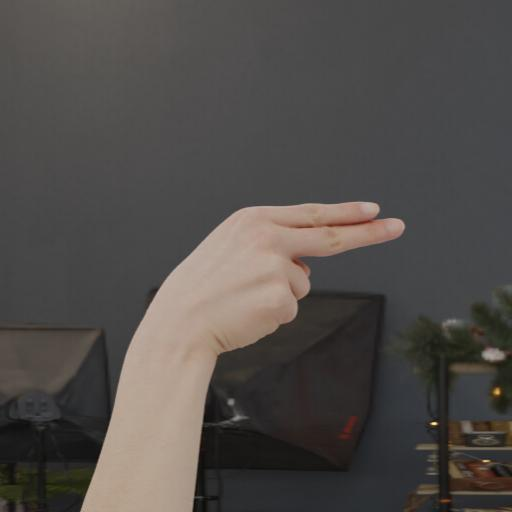H: (126, 194, 414, 350)
